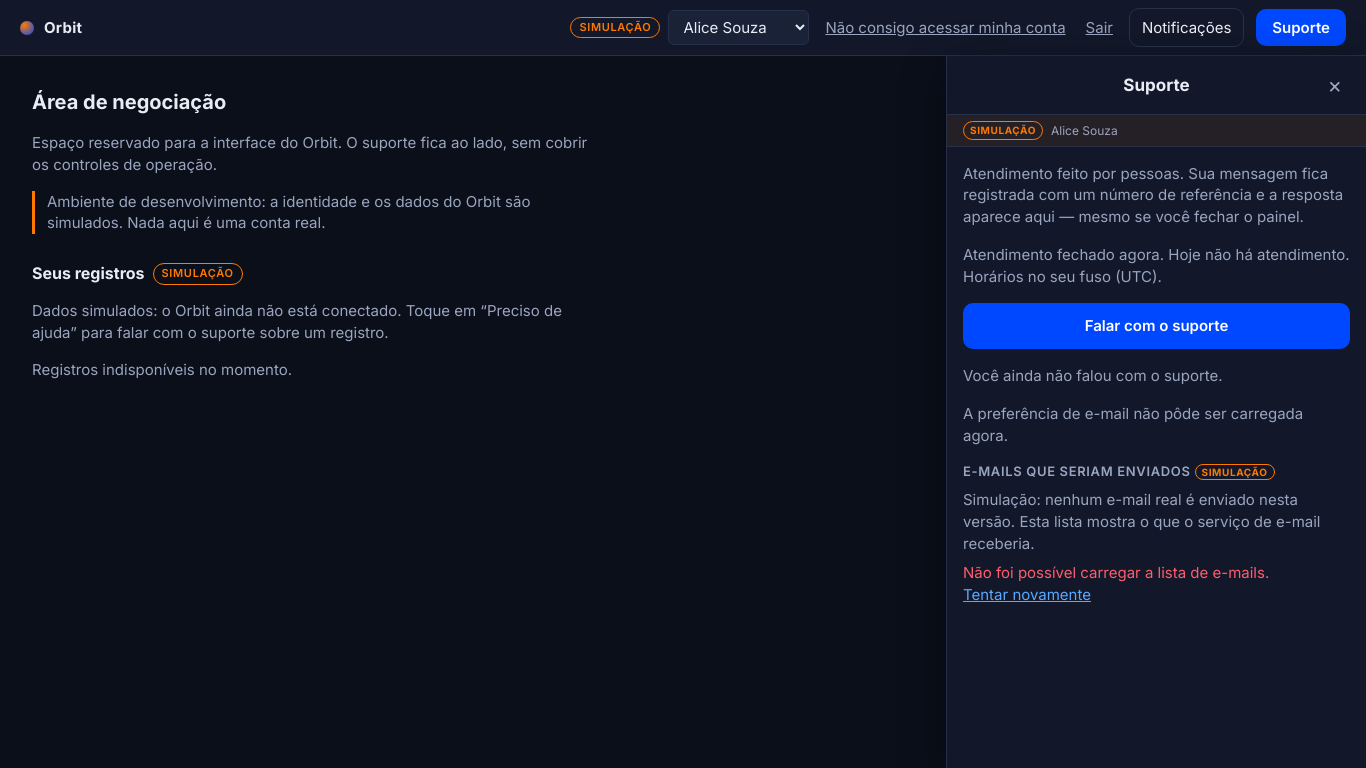
Scenario: OrbitShell layouts (Cycle Audit 3) › FND-0091: on mobile the topbar opens the full-screen panel and '×' closes it
Expected: the text "Você ainda não falou com o suporte." is shown, top-left (963, 366), bottom-right (1223, 385)
What coordinates should you click on to do the following:
click the button "Suporte"
I would click on:
 (1301, 28)
Its box is top-left (1256, 9), bottom-right (1346, 46).
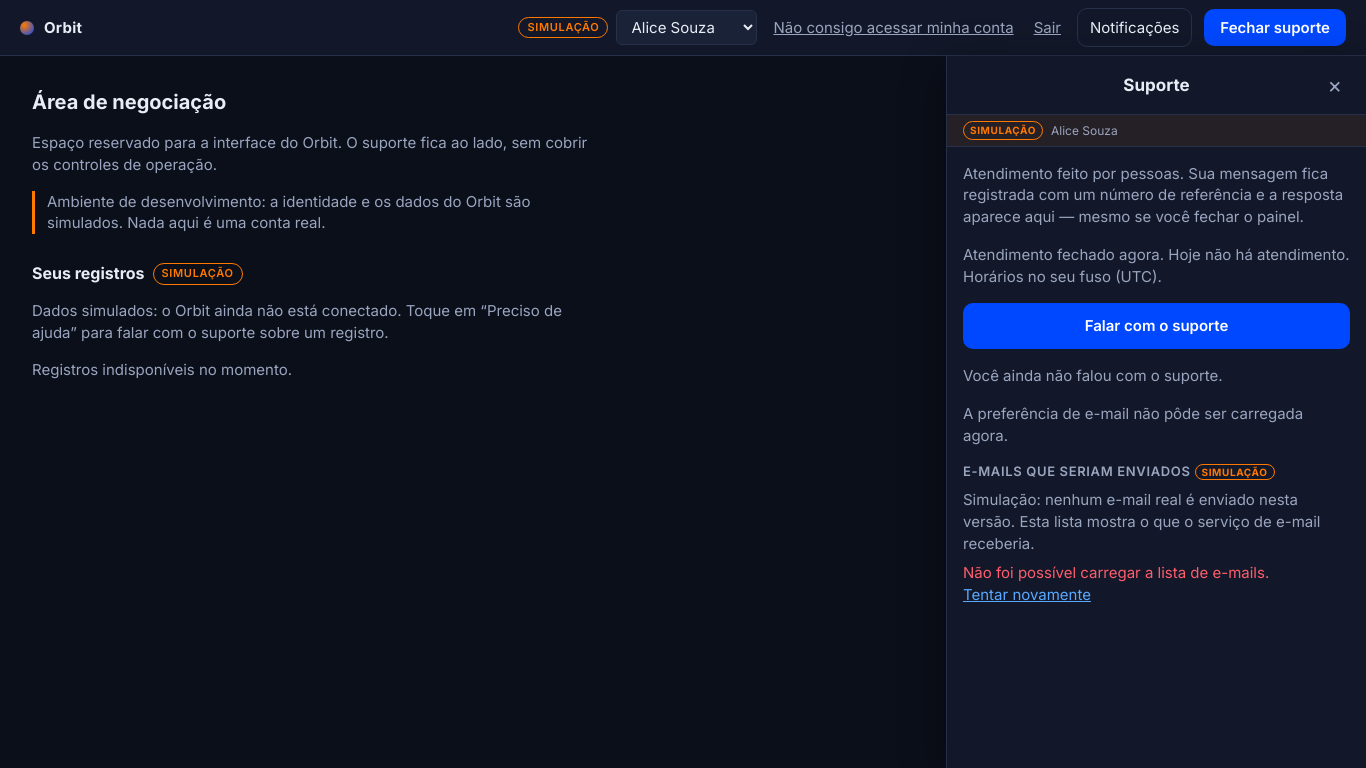
Result: the button "Fechar suporte" is expanded at top-left (1204, 9), bottom-right (1346, 46)
What coordinates should you click on to do the following:
click the button named "Fechar suporte"
I would click on:
 (1335, 85)
Its box is top-left (1319, 68), bottom-right (1350, 102).
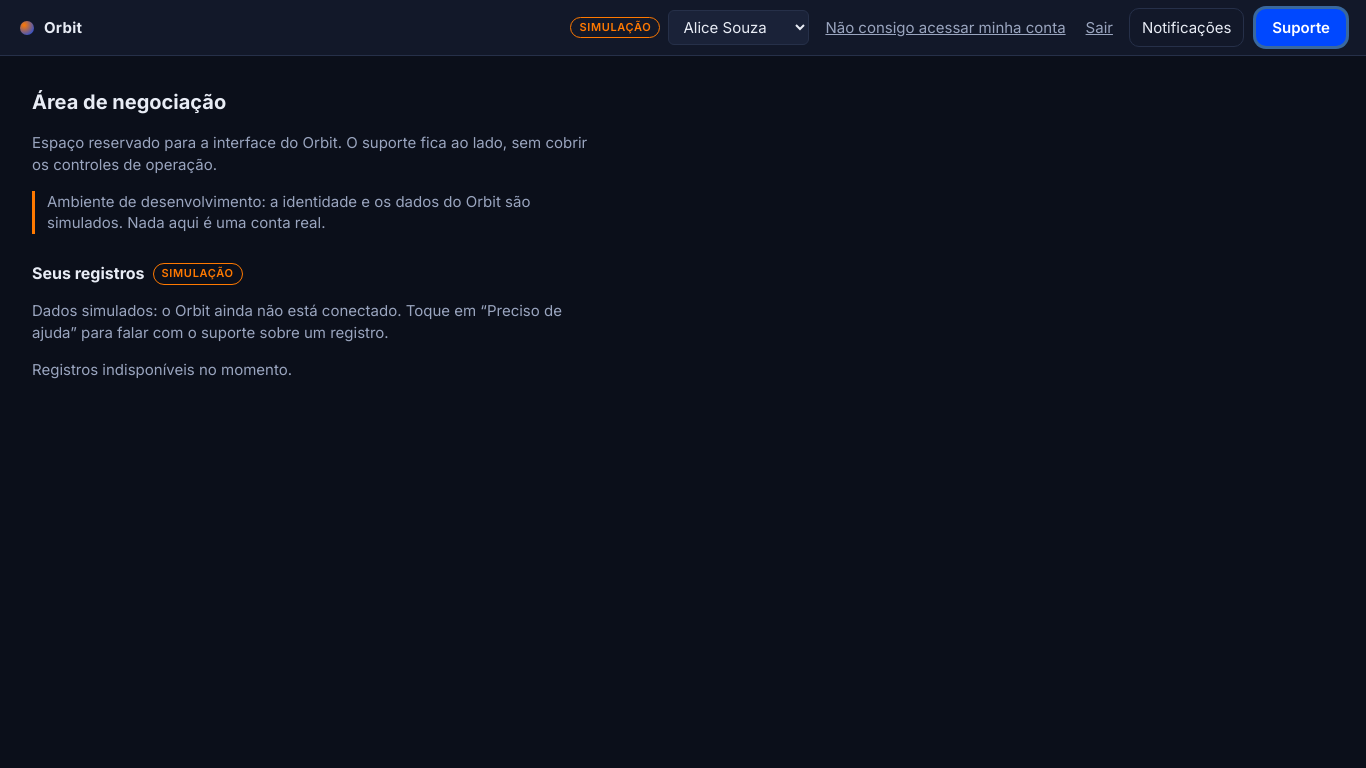
Result: the button "Suporte" is collapsed at top-left (1256, 9), bottom-right (1346, 46)
